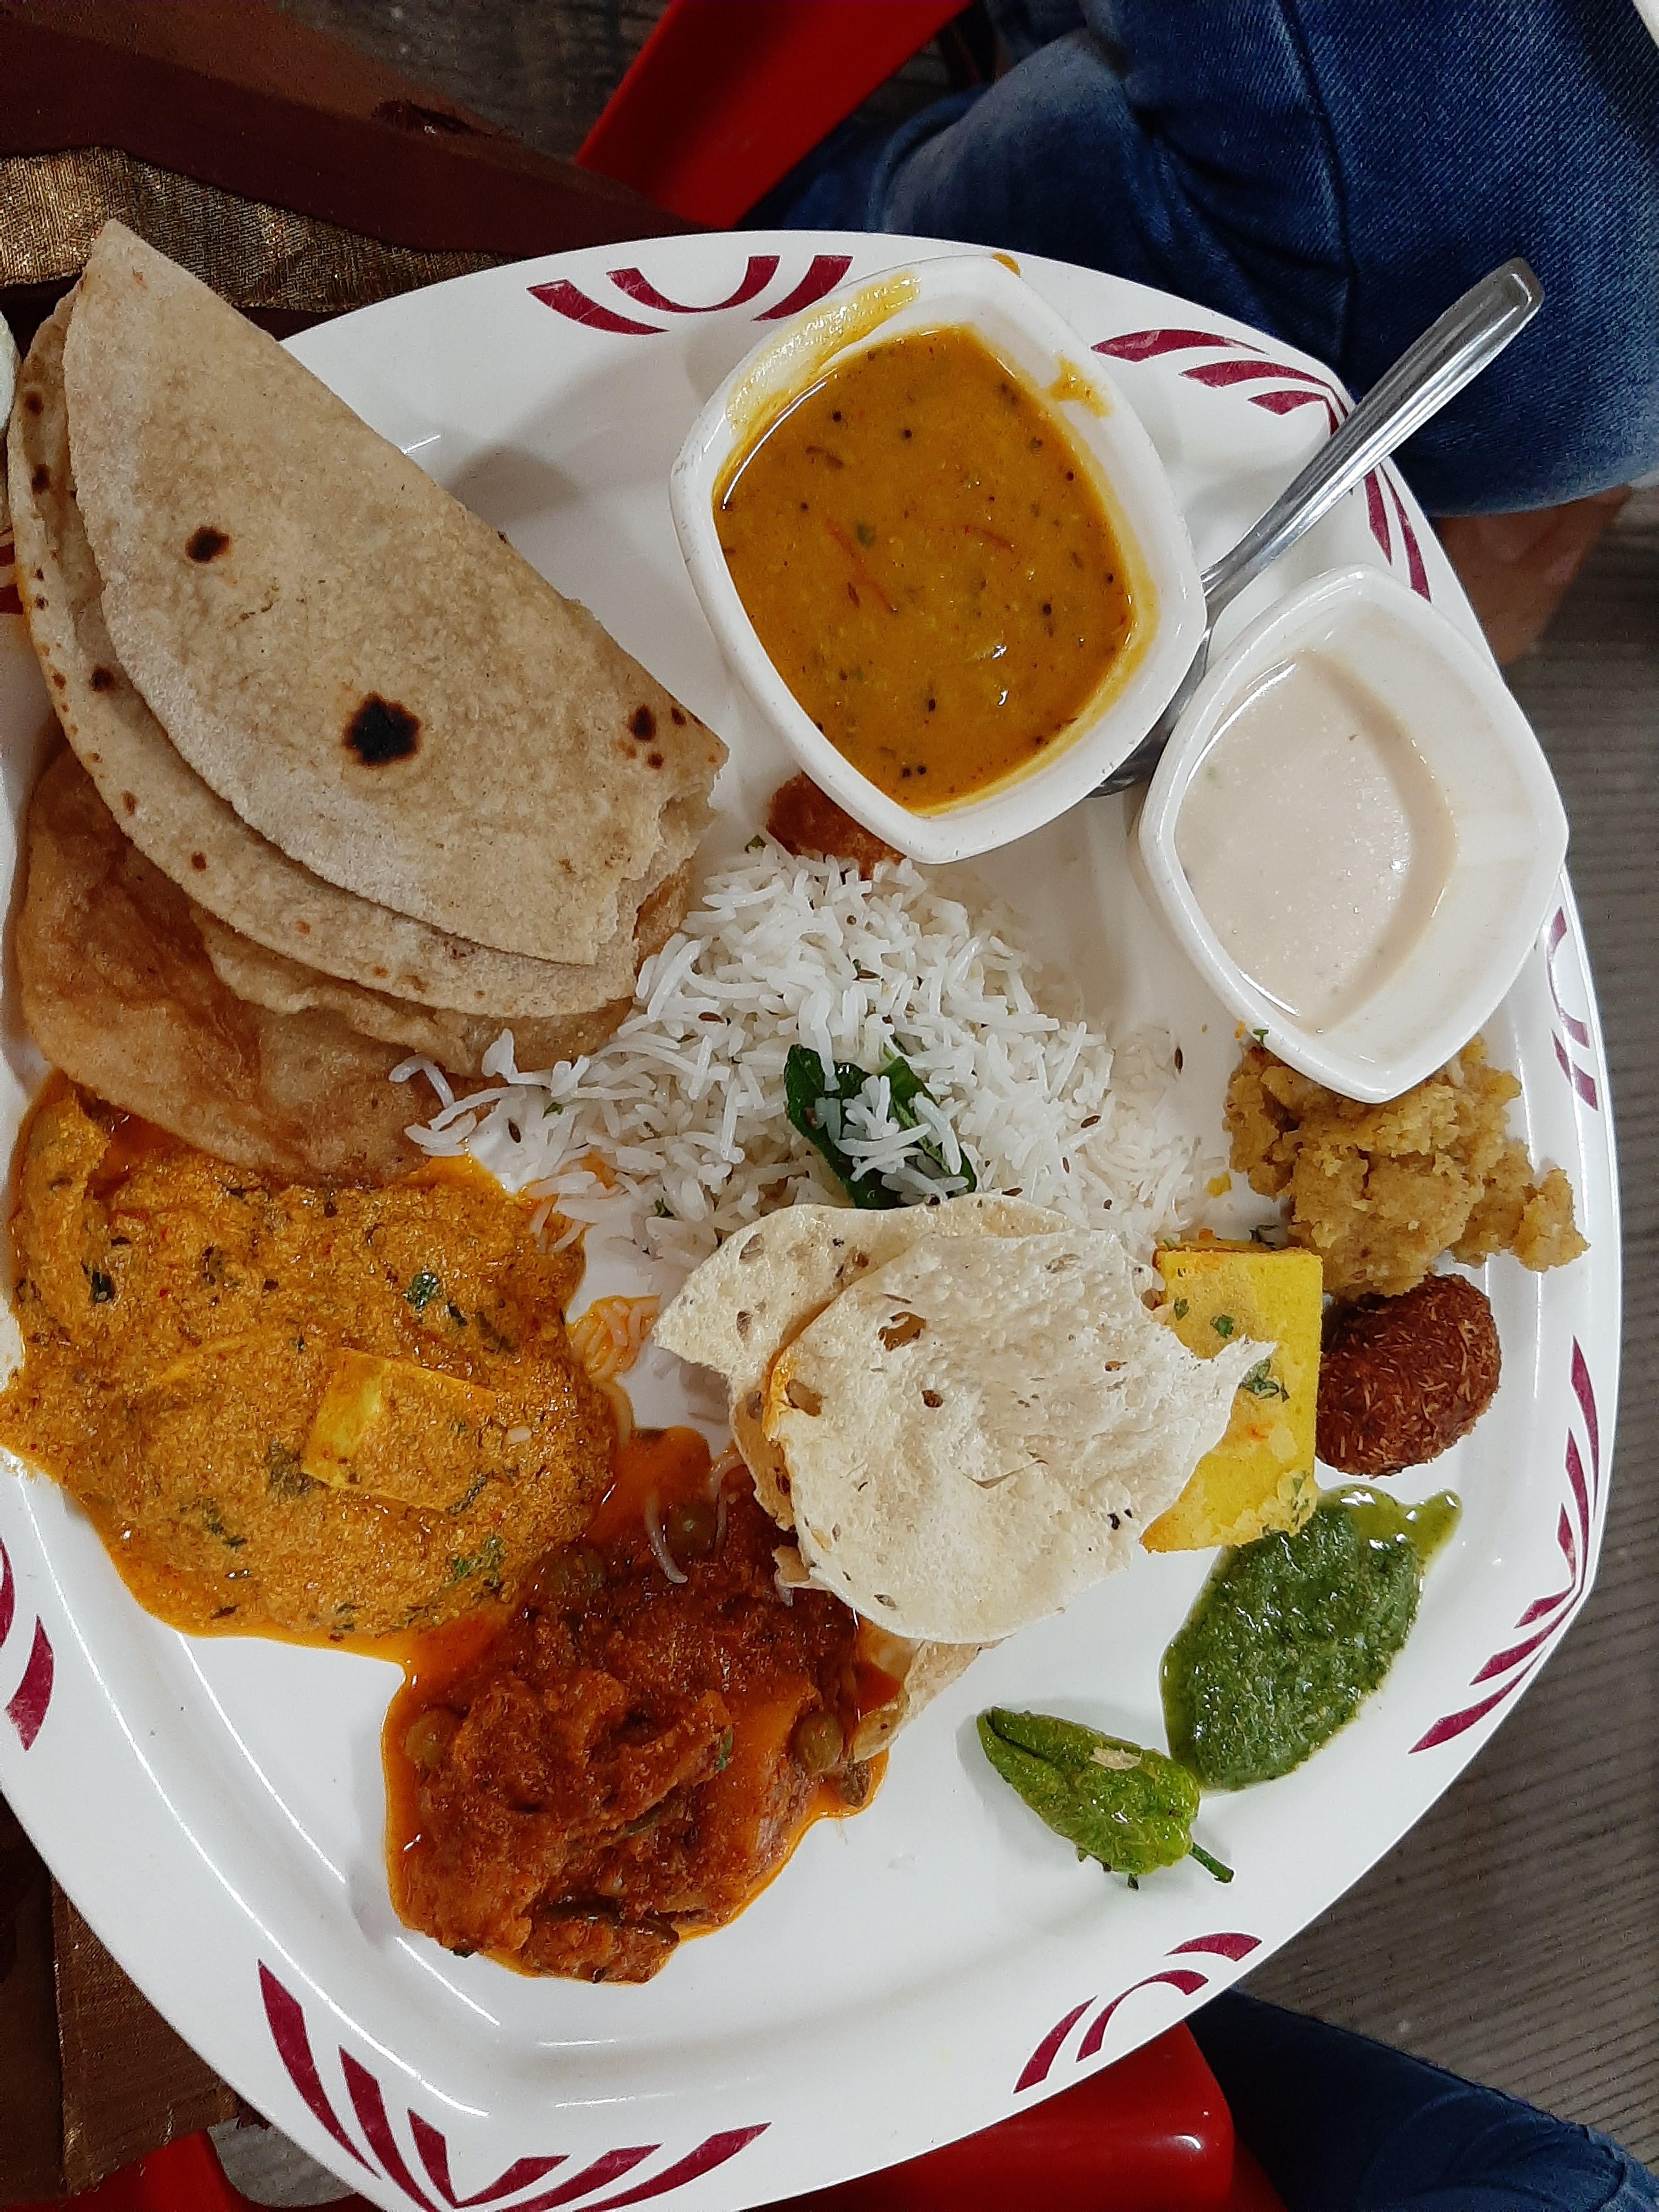food: (0, 206, 1599, 1991)
